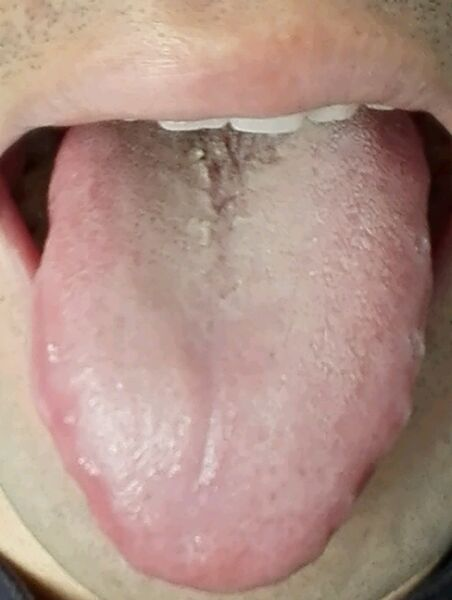baitaishe: (30, 113, 432, 594)
chihenshe: (33, 390, 124, 558)
liewenshe: (187, 125, 255, 220)
